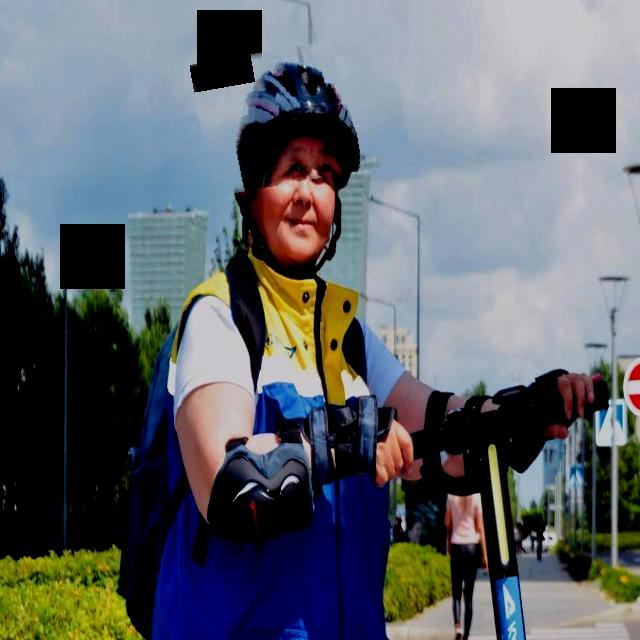helmet: (195, 39, 408, 189)
